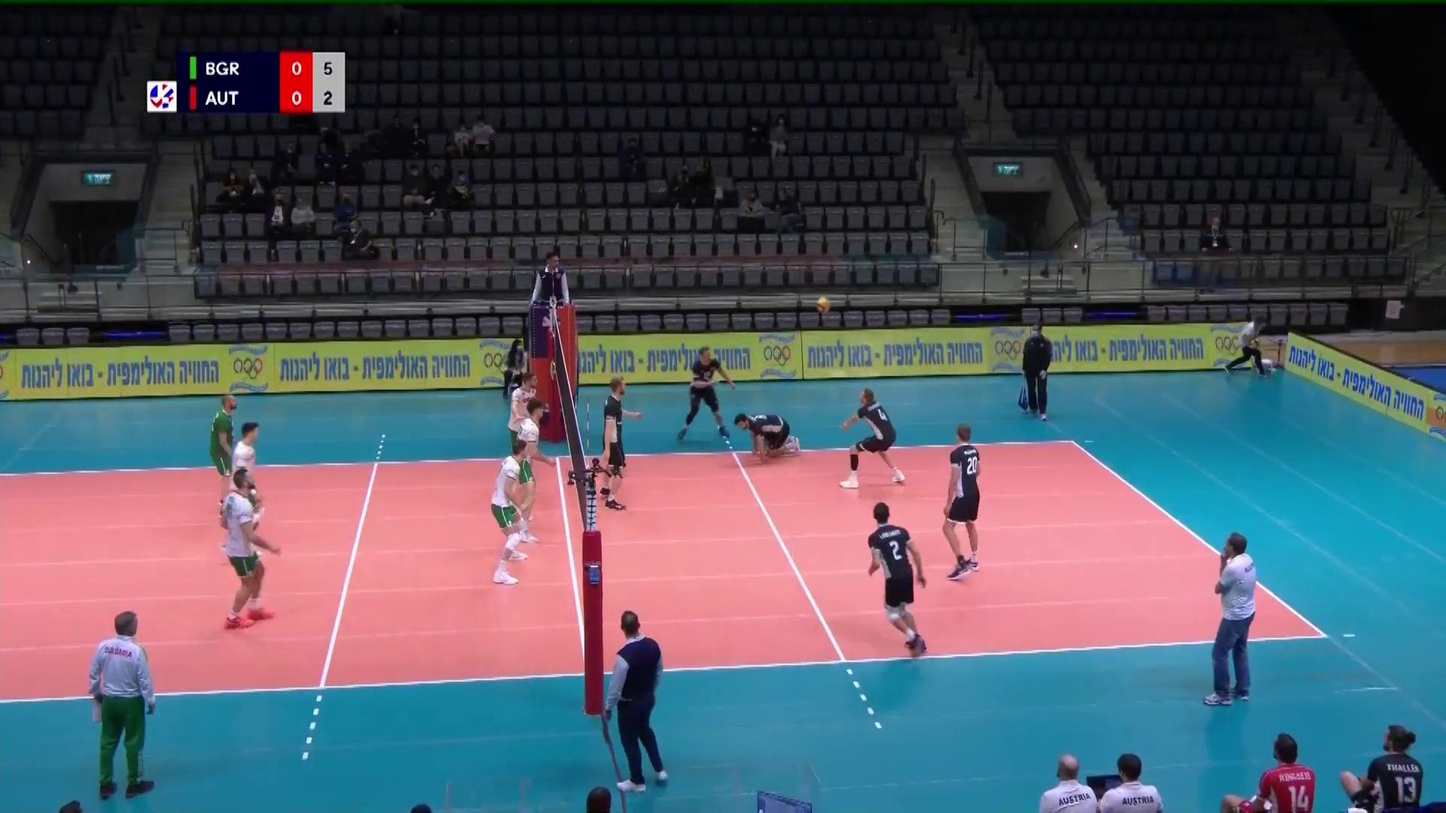ball: (816, 297, 830, 314)
